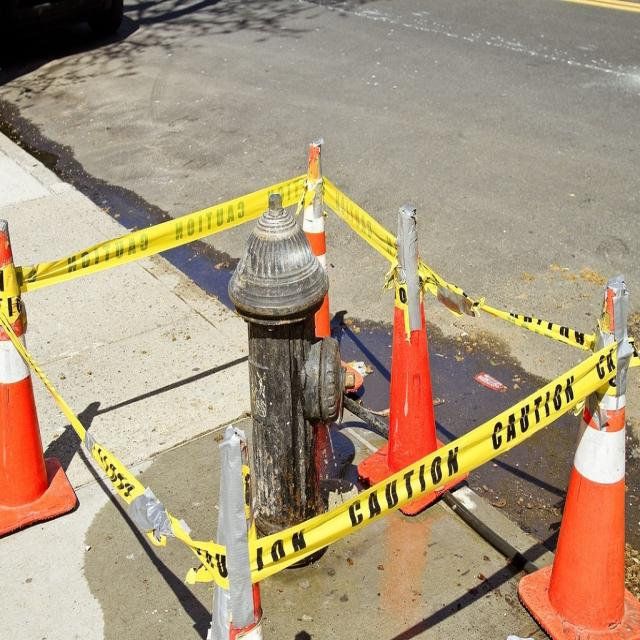fire_hydrant: (229, 186, 357, 568)
